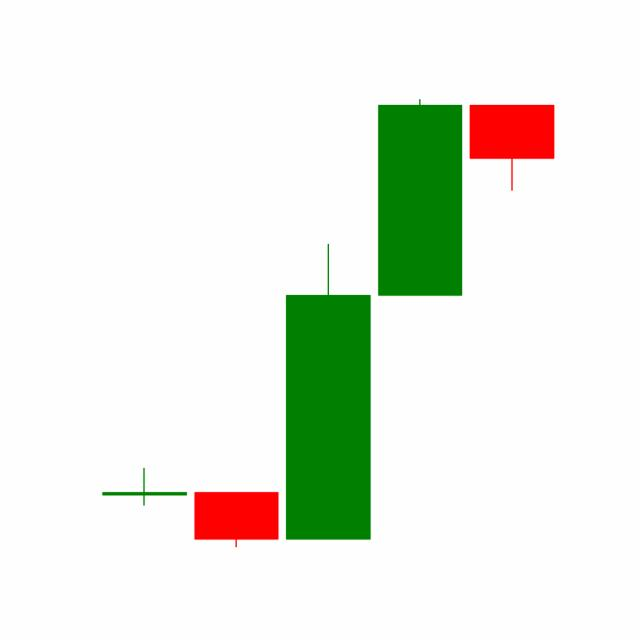Marubozu: (373, 96, 467, 298)
